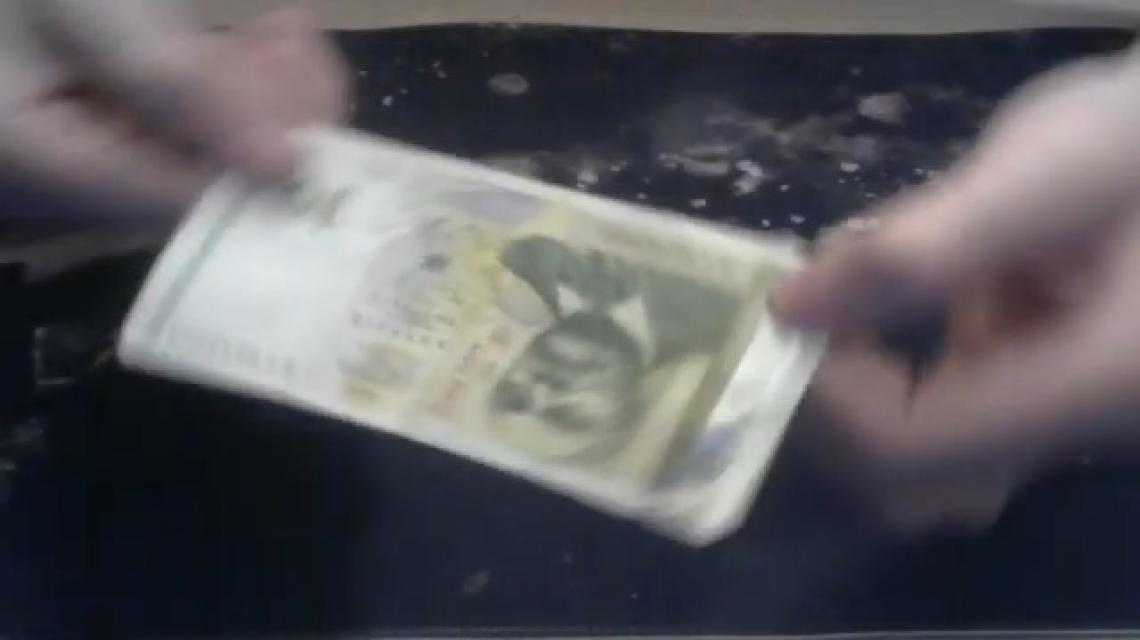10leva: (109, 124, 828, 553)
